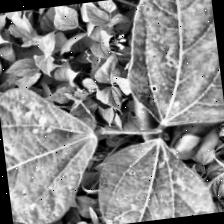ALS: (0, 78, 105, 224), (112, 0, 224, 136), (94, 128, 214, 224)
